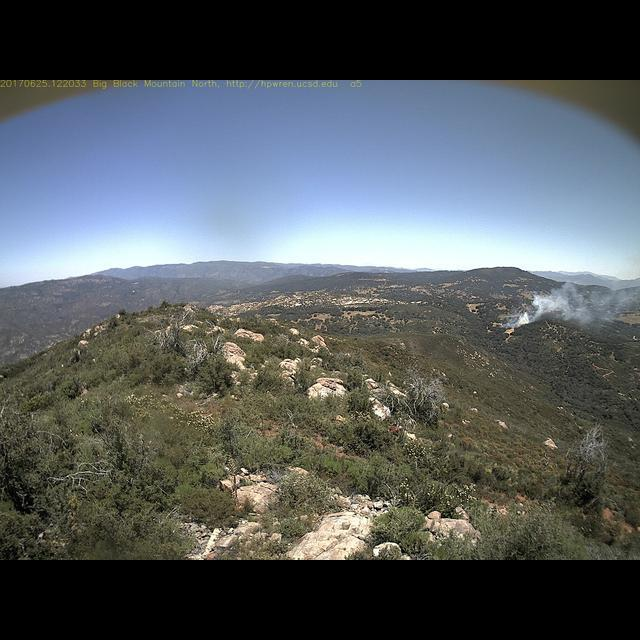Smoke: (500, 272, 635, 333)
